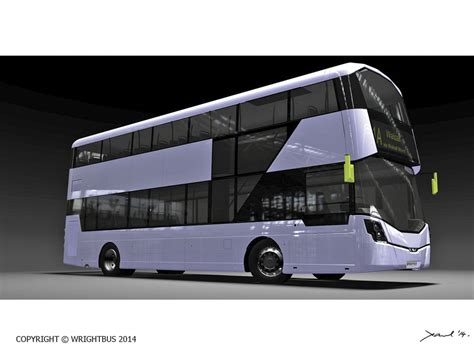bus: (64, 73, 432, 281)
